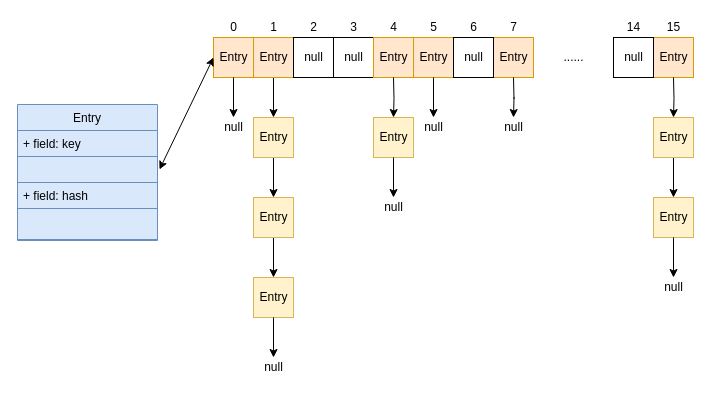
Some shapes in this 711 by 394 pixel diagram are drawn without their labels. The box of each missing label's shape, as (x1, y1, x2, y2) in pixels:
+ field: next: (16, 208, 158, 240)
+ field: value: (16, 156, 158, 182)
